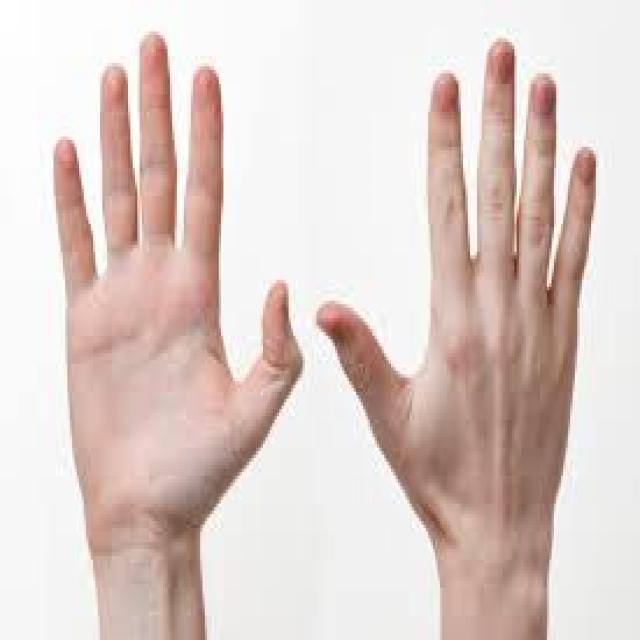hand: (44, 0, 305, 557)
